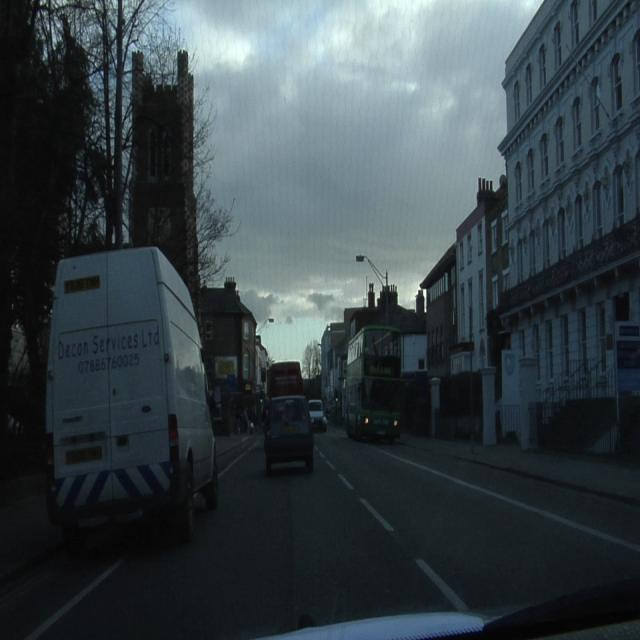Building: (425, 1, 638, 449), (321, 283, 426, 422), (200, 277, 268, 433)
Car: (265, 397, 313, 473), (309, 400, 326, 431)
Road: (0, 425, 639, 634)
Tree: (0, 0, 179, 444)
Truck_Bus: (45, 246, 216, 538), (346, 327, 402, 439)
